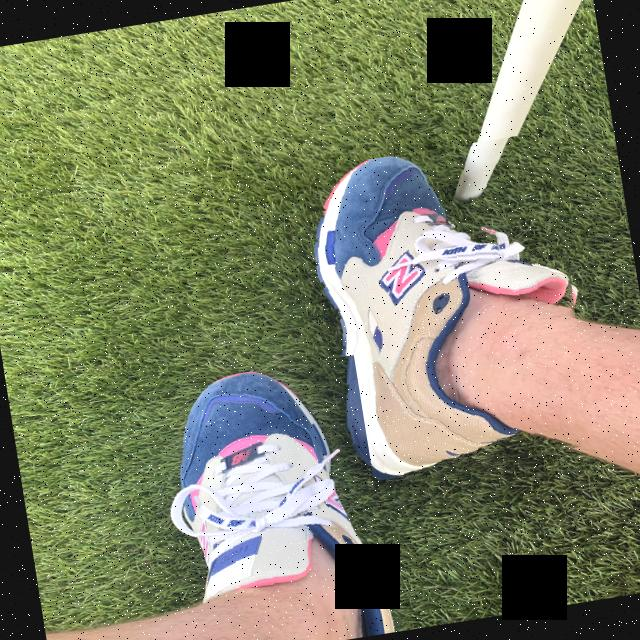shoe: (302, 130, 606, 496), (156, 355, 398, 640)
